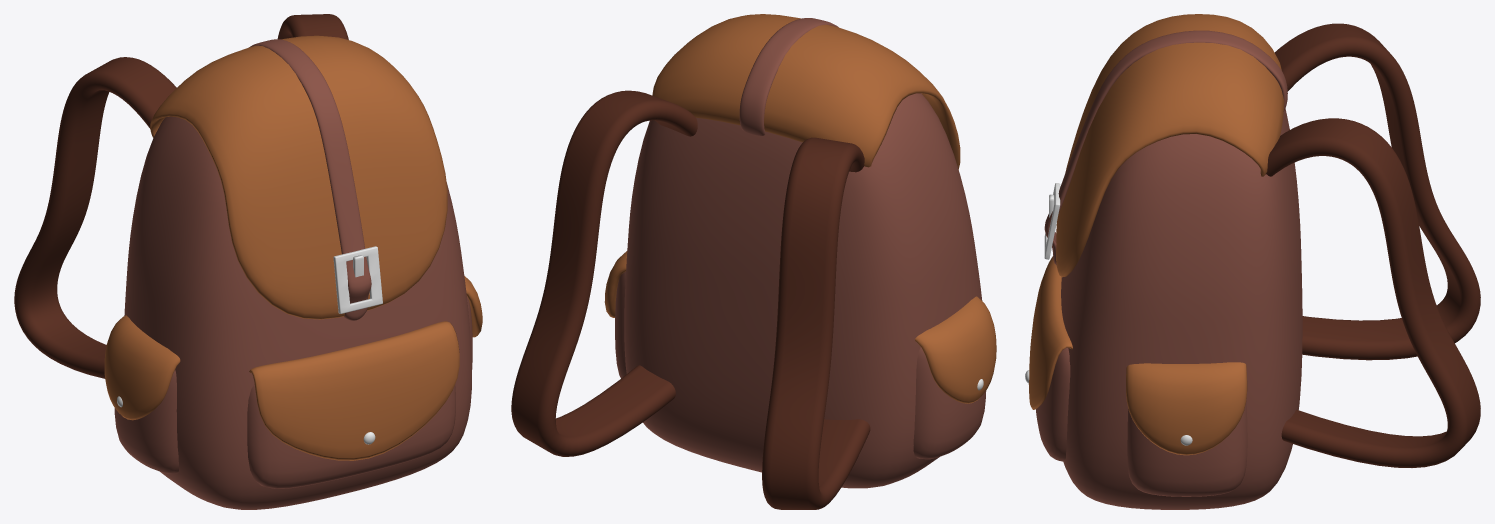
Rendered from sasha-backpack.fbx.
3 views of the same model, side by side, from view 1: azimuth 30°, elevation 25°; view 2: azimuth 150°, elevation 25°; view 3: azimuth 270°, elevation 25° (orthographic). The views are drawn at different scales.
Visible parts, largest first — view 1: Backpack, MainFlap, FrontPocketFlap, ShoulderStraps, FrontPocket, Strip, SideFlap, SidePocket, lock; view 2: Backpack, ShoulderStraps, MainFlap, SideFlap, SidePocket, Strip; view 3: Backpack, ShoulderStraps, MainFlap, SideFlap, SidePocket, Strip, FrontPocketFlap, FrontPocket, lock.
Boxes of the visible parts, bbox=[...] form: Backpack: bbox=[124, 116, 471, 509]; MainFlap: bbox=[150, 35, 447, 319]; FrontPocketFlap: bbox=[249, 321, 459, 460]; ShoulderStraps: bbox=[14, 14, 348, 378]; FrontPocket: bbox=[247, 384, 455, 488]; Strip: bbox=[249, 39, 371, 320]; SideFlap: bbox=[104, 276, 482, 420]; SidePocket: bbox=[114, 296, 472, 473]; lock: bbox=[333, 246, 382, 313]; Backpack: bbox=[624, 93, 982, 488]; ShoulderStraps: bbox=[511, 90, 870, 509]; MainFlap: bbox=[652, 14, 960, 169]; SideFlap: bbox=[604, 251, 996, 403]; SidePocket: bbox=[615, 271, 986, 459]; Strip: bbox=[739, 18, 838, 135]; Backpack: bbox=[1061, 108, 1302, 509]; ShoulderStraps: bbox=[1266, 23, 1480, 467]; MainFlap: bbox=[1056, 14, 1284, 277]; SideFlap: bbox=[1126, 362, 1247, 455]; SidePocket: bbox=[1127, 402, 1247, 496]; Strip: bbox=[1044, 30, 1287, 265]; FrontPocketFlap: bbox=[1028, 256, 1072, 409]; FrontPocket: bbox=[1036, 347, 1070, 461]; lock: bbox=[1044, 183, 1060, 259].
Bounding box in the file's own units: 209 × 239 × 227.
